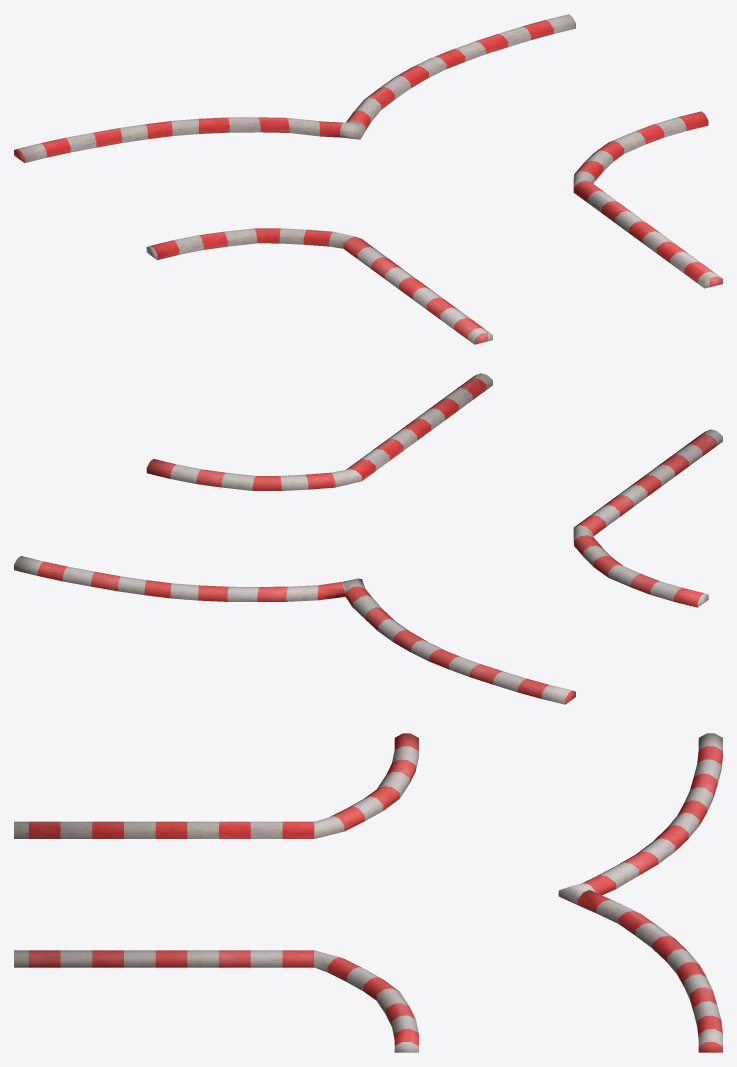
Rendered from crub_track_crossroads_big.fbx.
The picture shows the model from 3 angles, top to bottom: view 1: azimuth 30°, elevation 25°; view 2: azimuth 150°, elevation 25°; view 3: azimuth 270°, elevation 25°; orthographic projection. The views are drawn at different scales.
Parts seen in each view (by area): view 1: curb_track_straight; view 2: curb_track_straight; view 3: curb_track_straight.
Part boxes in pixels (box(x1,y1,x2,y2)): curb_track_straight: box(14, 14, 722, 344); curb_track_straight: box(14, 373, 722, 704); curb_track_straight: box(14, 733, 722, 1052).
Bounding box in the file's own units: 402 × 7.64 × 390.
